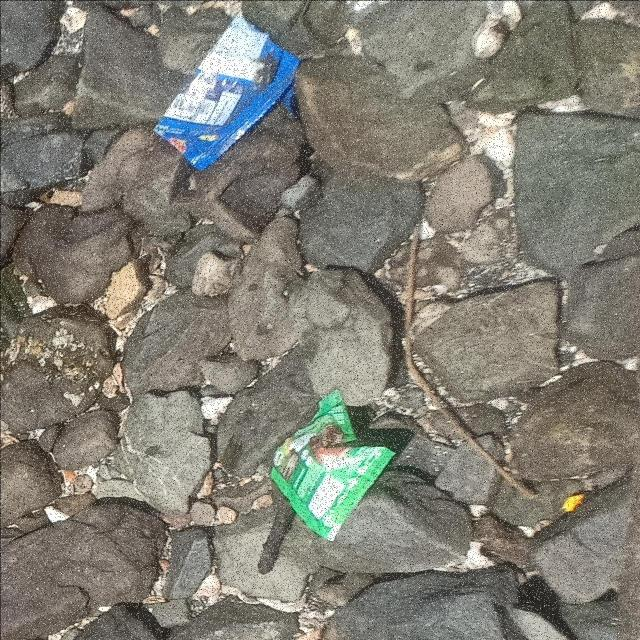plastic_waste: (152, 17, 301, 172), (270, 390, 396, 543)
